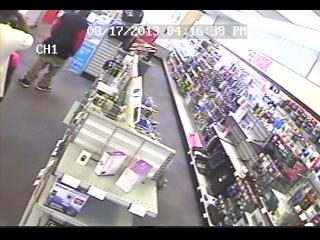Normal: (17, 11, 90, 92), (0, 12, 35, 103)
